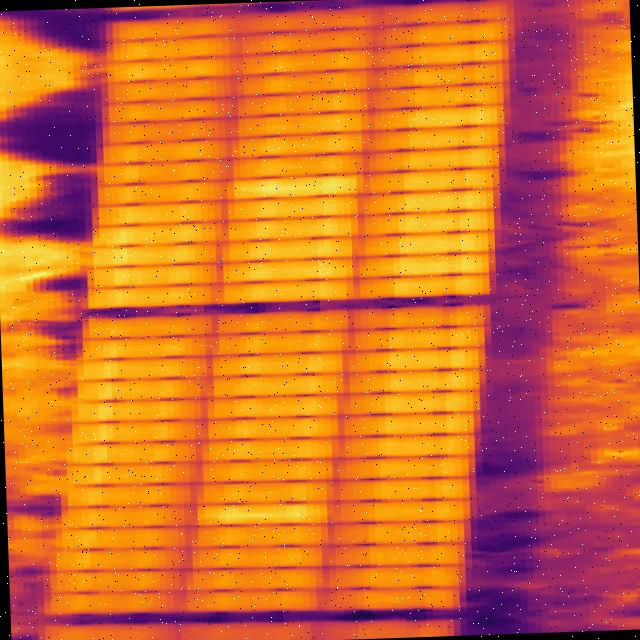Hotspot: (226, 175, 358, 198), (208, 502, 318, 522)
